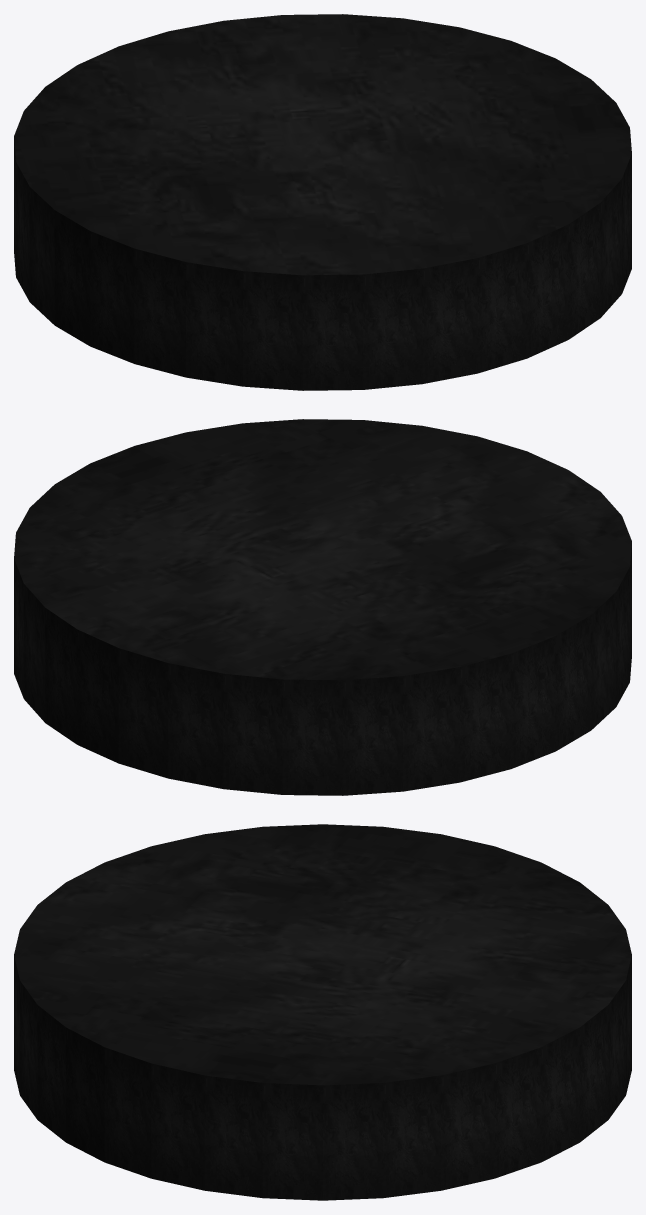
File: hockeypuck.obj
3 views of the same model, one above another, from view 1: azimuth 30°, elevation 25°; view 2: azimuth 150°, elevation 25°; view 3: azimuth 270°, elevation 25° (orthographic).
Visible parts, largest first — view 1: Cylinder.002; view 2: Cylinder.002; view 3: Cylinder.002.
Boxes of the visible parts, x1=… form: Cylinder.002: x1=14, y1=14, x2=631, y2=390; Cylinder.002: x1=14, y1=419, x2=631, y2=795; Cylinder.002: x1=14, y1=824, x2=631, y2=1200.
Bounding box in the file's own units: 2 × 0.4116 × 2.
